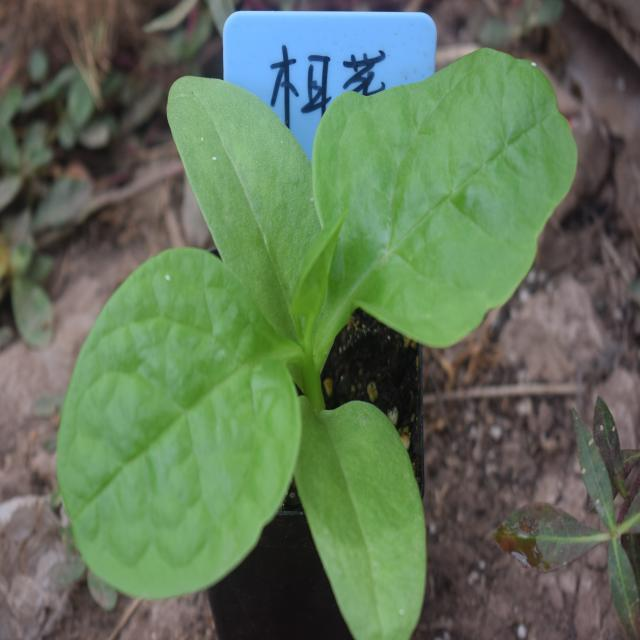Ceylon spinach: (56, 27, 552, 582)
